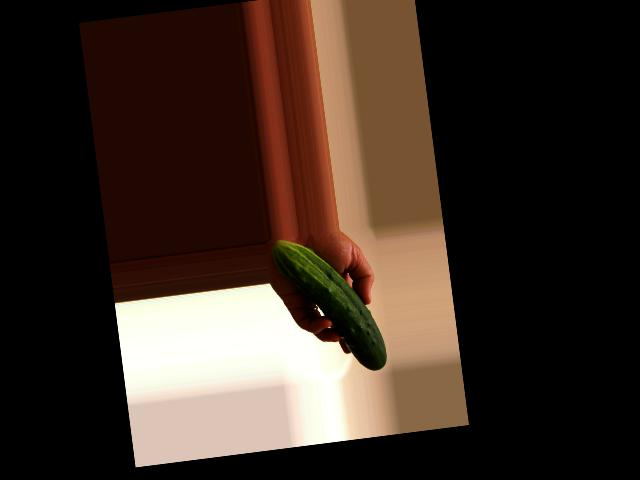cucumber: (270, 229, 387, 381)
